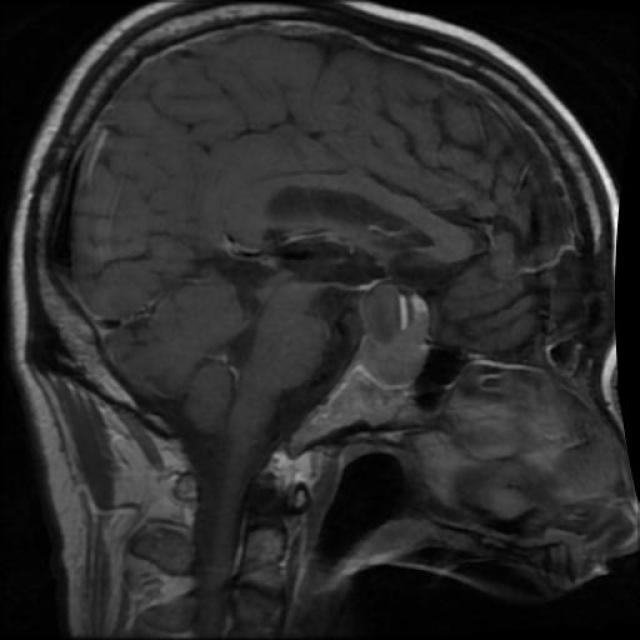pituitary: (356, 264, 437, 396)
